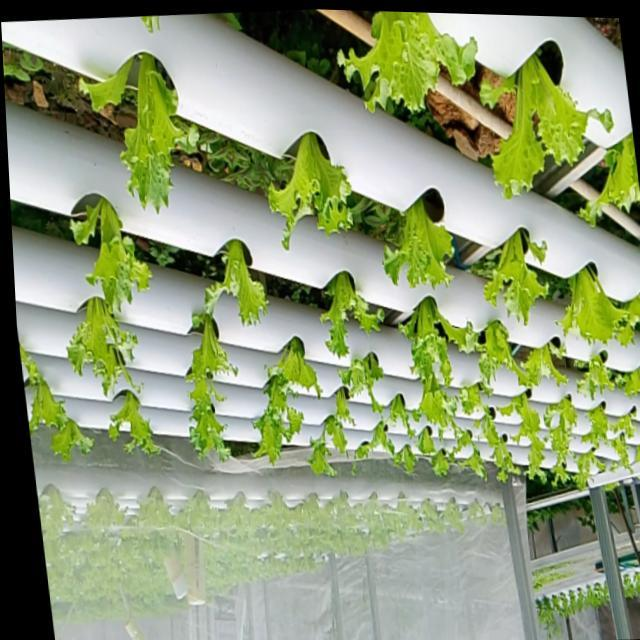Baby: (481, 58, 613, 201), (340, 11, 478, 114), (126, 53, 201, 211), (270, 131, 355, 248), (77, 194, 156, 308), (189, 302, 240, 457), (384, 188, 456, 286), (73, 293, 142, 392), (486, 227, 550, 323), (559, 265, 627, 347), (323, 269, 386, 354), (209, 237, 270, 322), (468, 319, 541, 389), (256, 372, 305, 460), (341, 349, 400, 409), (27, 357, 75, 430), (269, 334, 325, 393), (113, 386, 164, 450), (546, 395, 580, 480), (415, 370, 459, 433), (577, 451, 608, 489), (586, 405, 612, 448), (613, 433, 634, 471), (462, 382, 486, 414), (456, 425, 479, 456)
